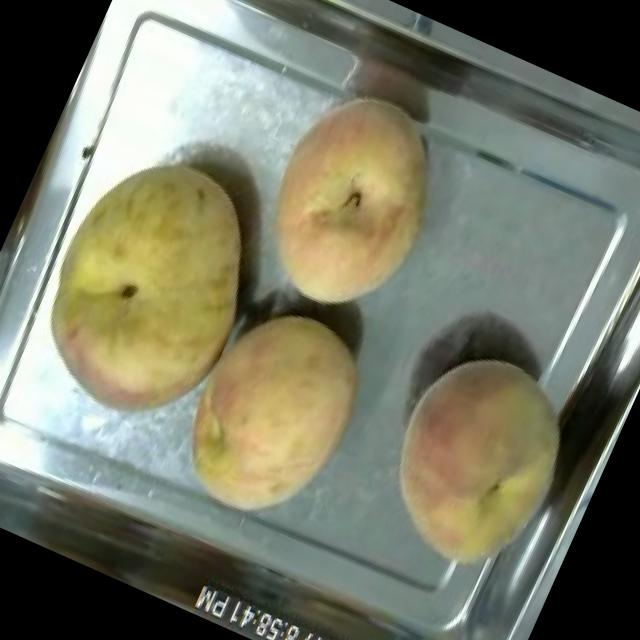Fruit: (1, 121, 299, 452), (348, 322, 604, 600), (226, 66, 474, 340), (158, 279, 396, 550)
